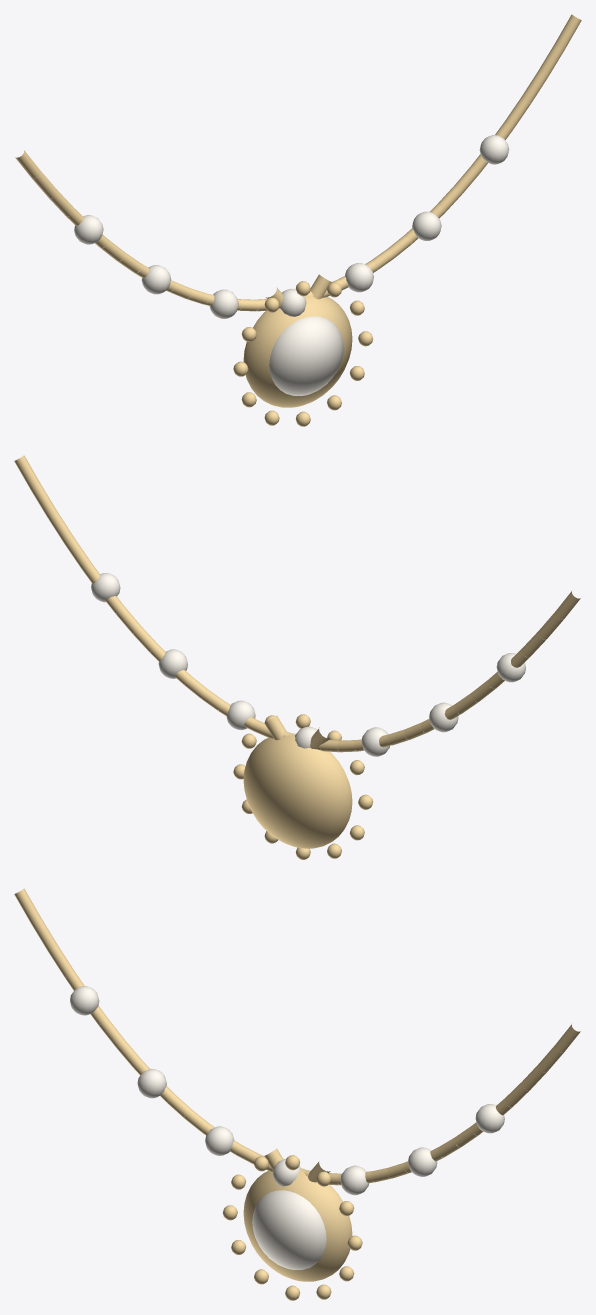
File: round-necklace.v2.safe.glb
The picture shows the model from 3 angles, top to bottom: view 1: azimuth 30°, elevation 25°; view 2: azimuth 150°, elevation 25°; view 3: azimuth 330°, elevation 25°; orthographic projection.
Parts seen in each view (by area): view 1: safe-commercial-necklace; view 2: safe-commercial-necklace; view 3: safe-commercial-necklace.
Part boxes in pixels (<box>): safe-commercial-necklace: <box>15,14,581,426</box>; safe-commercial-necklace: <box>14,455,580,859</box>; safe-commercial-necklace: <box>14,888,580,1300</box>.
Bounding box in the file's own units: 1.54 × 0.886 × 0.1277.
